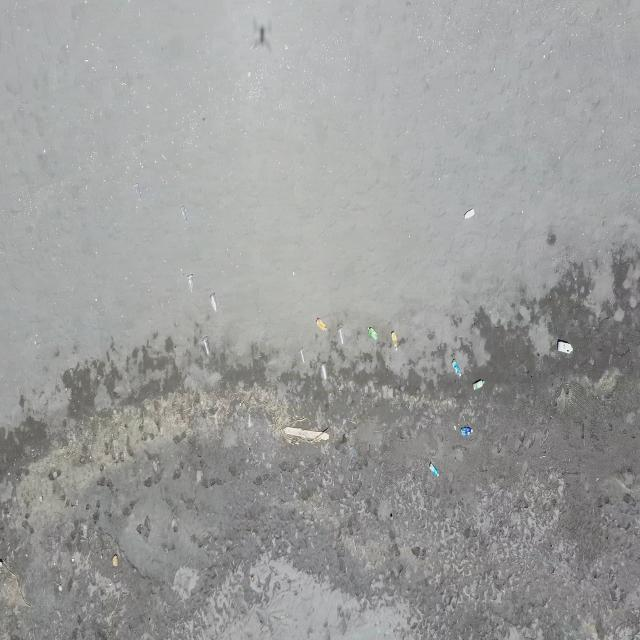plastic-bottle: (557, 338, 573, 356), (316, 316, 328, 332), (452, 358, 462, 376), (463, 206, 475, 220), (367, 326, 379, 340), (429, 462, 439, 478), (473, 378, 485, 391), (391, 331, 398, 352), (461, 427, 473, 437)
takeaway-cup: (202, 336, 211, 356), (186, 273, 195, 293), (337, 324, 345, 346), (320, 362, 328, 382), (210, 293, 218, 312), (180, 205, 188, 224), (133, 182, 141, 201), (298, 347, 306, 363)
